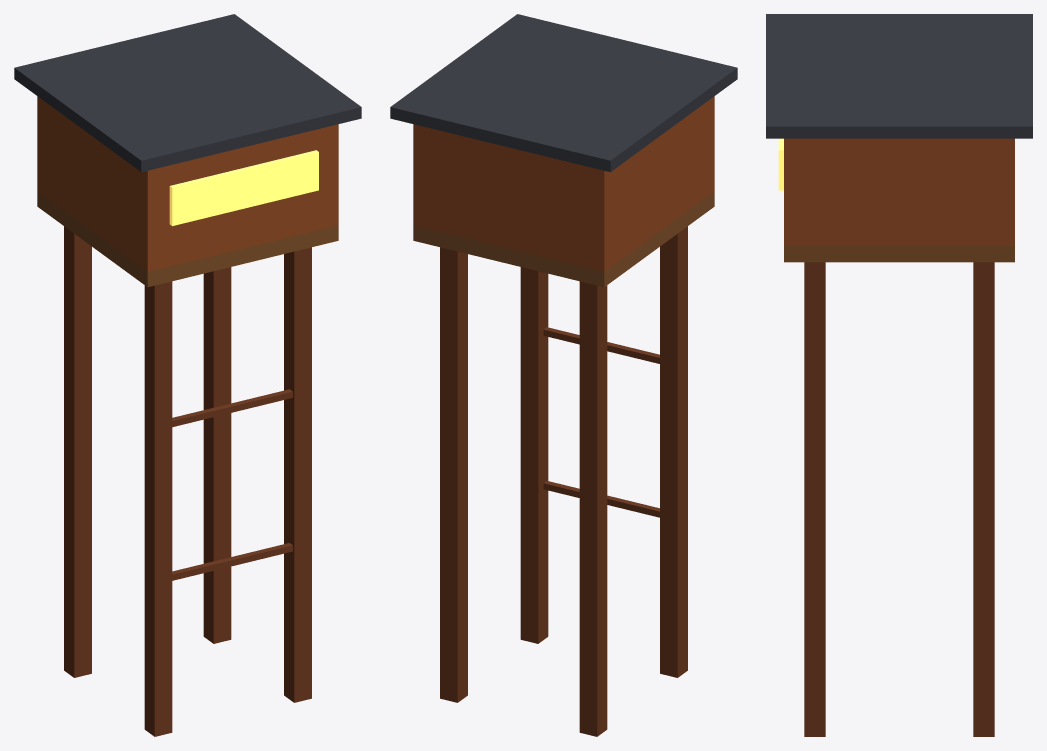
File: guard_tower.glb
3 views of the same model, side by side, from view 1: azimuth 30°, elevation 25°; view 2: azimuth 150°, elevation 25°; view 3: azimuth 270°, elevation 25° (orthographic). The views are drawn at different scales.
Parts seen in each view (by area): view 1: guard_tower; view 2: guard_tower; view 3: guard_tower.
Part boxes in pixels (<box>): guard_tower: <box>14,14,361,736</box>; guard_tower: <box>390,14,737,736</box>; guard_tower: <box>766,14,1032,736</box>.
Bounding box in the file's own units: 3 × 7.77 × 3.
